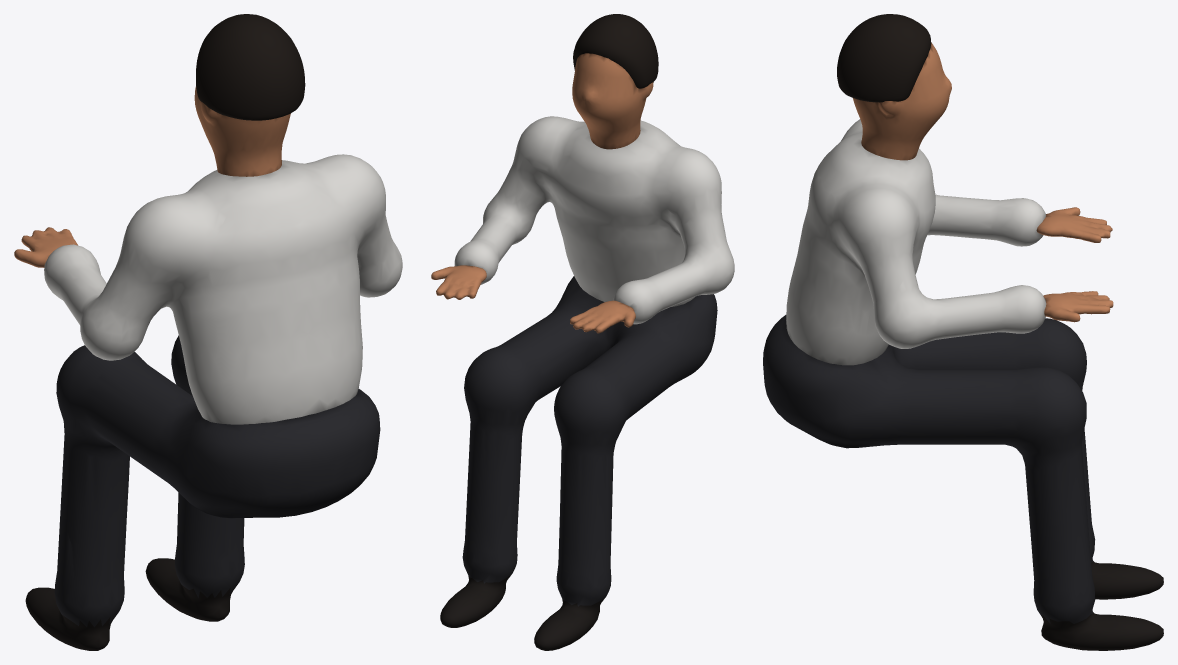
The model's file is avatar-a.glb.
The picture shows the model from 3 angles, left to right: view 1: azimuth 30°, elevation 25°; view 2: azimuth 150°, elevation 25°; view 3: azimuth 270°, elevation 25°; orthographic projection. The views are drawn at different scales.
Parts seen in each view (by area): view 1: Shirt, Trousers, Hair, Skin; view 2: Trousers, Shirt, Skin, Hair; view 3: Trousers, Shirt, Skin, Hair.
Part boxes in pixels (box(x1,y1,x2,y2)): Shirt: box(44, 154, 402, 424); Trousers: box(25, 335, 380, 650); Hair: box(196, 14, 305, 120); Skin: box(14, 86, 290, 267); Trousers: box(440, 276, 717, 650); Shirt: box(454, 116, 734, 324); Skin: box(431, 53, 653, 333); Hair: box(573, 14, 658, 88); Trousers: box(763, 315, 1163, 650); Shirt: box(786, 119, 1046, 365); Skin: box(853, 42, 1113, 322); Hair: box(837, 14, 931, 102).
Size of the model in its own units: 0.6245 by 1.32 by 0.7922.
